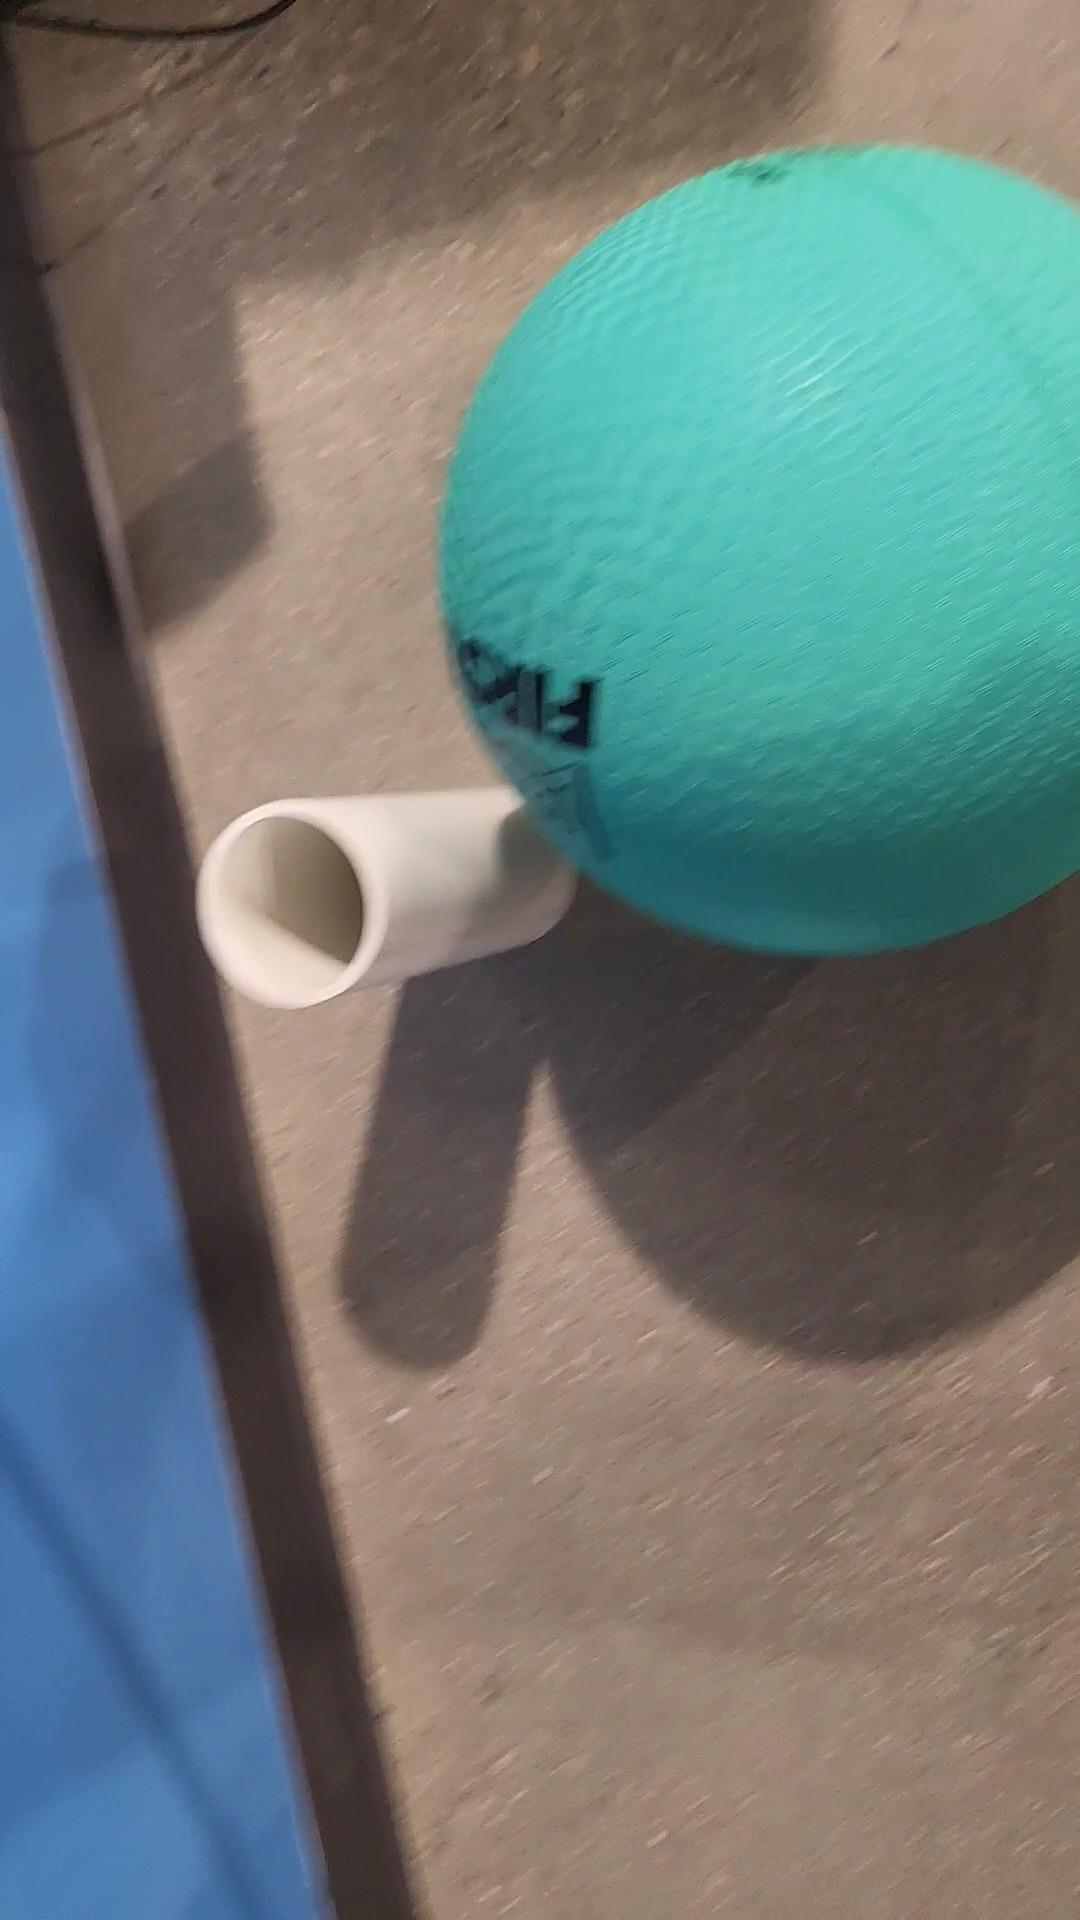algae: (436, 127, 1080, 964)
coral: (196, 785, 589, 1013)
